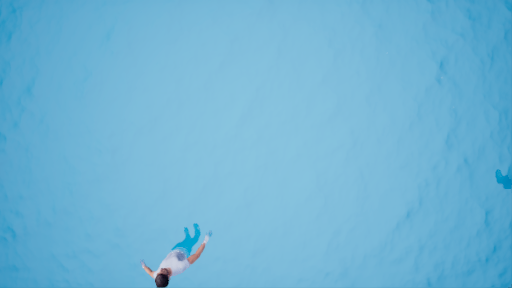person: (144, 219, 215, 288)
